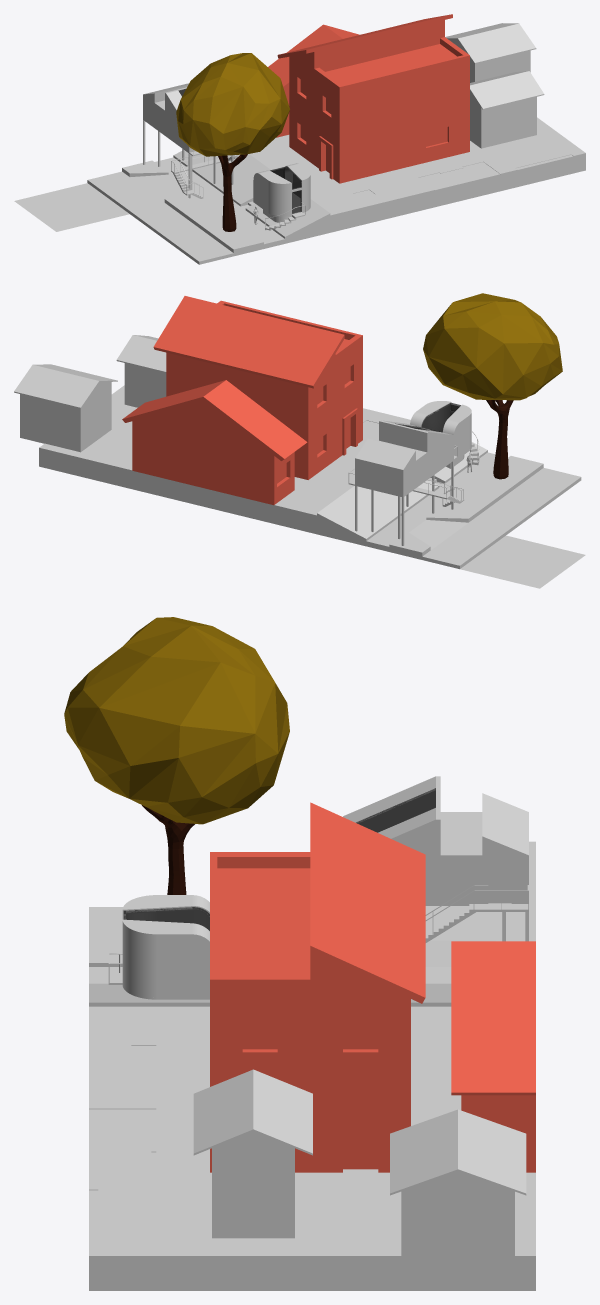
The model's file is YifeiFBX.fbx.
The picture shows the model from 3 angles, top to bottom: view 1: azimuth 30°, elevation 25°; view 2: azimuth 150°, elevation 25°; view 3: azimuth 270°, elevation 25°; orthographic projection. The views are drawn at different scales.
Visible parts, largest first — view 1: house, Roads, Lowpolytree_4_yellow, Ground pods, image tracker, Lowpolytree_4_yellow_2; view 2: house, Roads, Lowpolytree_4_yellow, Ground pods, image tracker, Lowpolytree_4_yellow_2; view 3: house, Roads, Lowpolytree_4_yellow, Ground pods, Lowpolytree_4_yellow_2.
Boxes of the visible parts, left/top/right/bottom form: house: left=268, top=14, right=544, bottom=183; Roads: left=87, top=117, right=585, bottom=264; Lowpolytree_4_yellow: left=176, top=53, right=289, bottom=156; Ground pods: left=143, top=83, right=310, bottom=230; image tracker: left=14, top=183, right=129, bottom=231; Lowpolytree_4_yellow_2: left=218, top=154, right=247, bottom=231; house: left=14, top=296, right=362, bottom=505; Roads: left=39, top=385, right=581, bottom=569; Lowpolytree_4_yellow: left=423, top=293, right=562, bottom=400; Ground pods: left=348, top=401, right=479, bottom=545; image tracker: left=460, top=535, right=585, bottom=588; Lowpolytree_4_yellow_2: left=486, top=400, right=513, bottom=479; house: left=193, top=802, right=535, bottom=1278; Roads: left=89, top=907, right=535, bottom=1290; Lowpolytree_4_yellow: left=64, top=617, right=289, bottom=824; Ground pods: left=108, top=776, right=528, bottom=999; Lowpolytree_4_yellow_2: left=142, top=805, right=194, bottom=894.
Bounding box in the file's own units: 0.5023 × 0.2112 × 0.1681.
